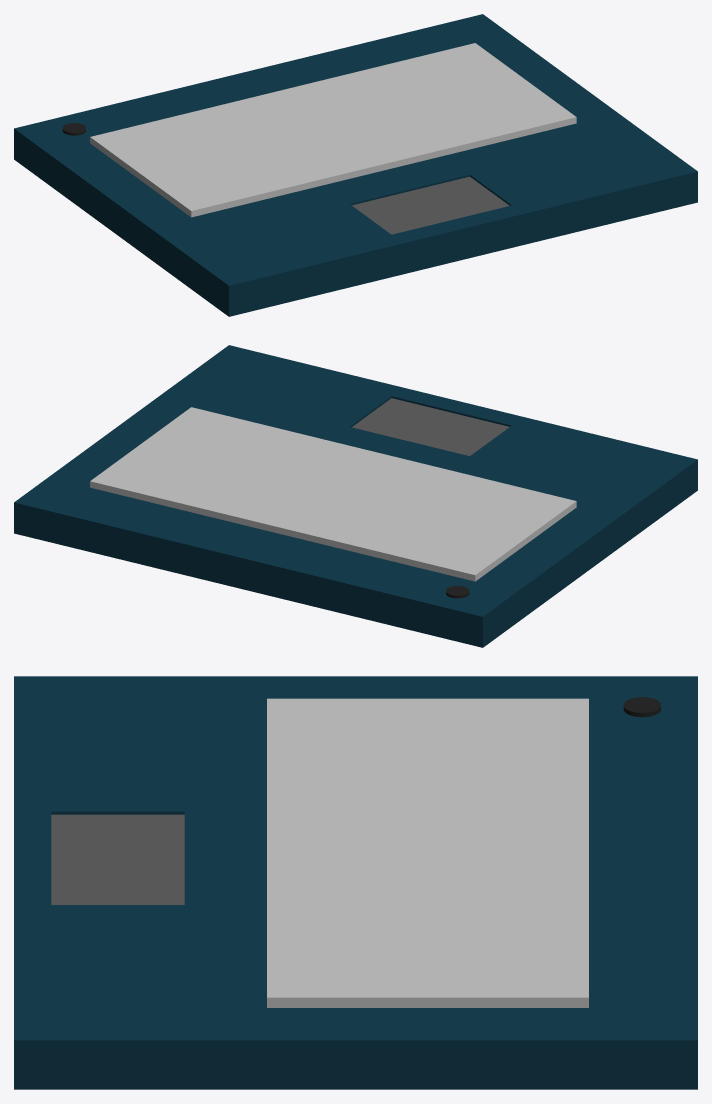
The model's file is Itr_Obj_Laptop_Board_03.FBX.
The picture shows the model from 3 angles, top to bottom: view 1: azimuth 30°, elevation 25°; view 2: azimuth 150°, elevation 25°; view 3: azimuth 270°, elevation 25°; orthographic projection. The views are drawn at different scales.
Parts seen in each view (by area): view 1: Itr_Obj_Laptop_Board_03; view 2: Itr_Obj_Laptop_Board_03; view 3: Itr_Obj_Laptop_Board_03.
Boxes of the visible parts, <box> form: Itr_Obj_Laptop_Board_03: <box>14,14,697,316</box>; Itr_Obj_Laptop_Board_03: <box>14,345,697,647</box>; Itr_Obj_Laptop_Board_03: <box>14,676,697,1089</box>.
Bounding box in the file's own units: 29.1 × 2.22 × 23.12.
